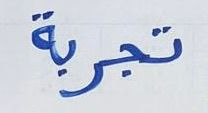jeem: (107, 37, 147, 84)
noon: (148, 20, 187, 68)
reh: (78, 55, 106, 97)
teh_marbota: (25, 8, 57, 61)
yeh: (59, 38, 77, 77)
